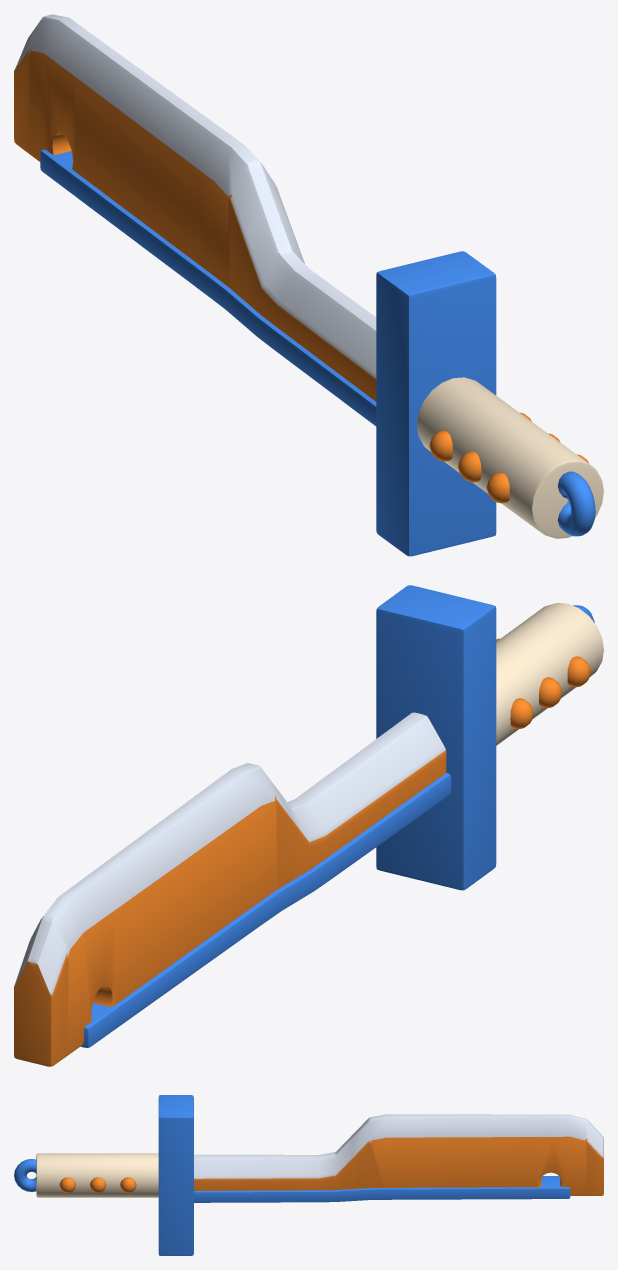
Rendered from Sword_ToolhouseCleaver.glb.
The picture shows the model from 3 angles, top to bottom: view 1: azimuth 30°, elevation 25°; view 2: azimuth 150°, elevation 25°; view 3: azimuth 270°, elevation 25°; orthographic projection. The views are drawn at different scales.
Parts seen in each view (by area): view 1: Sword_ToolhouseCleaver; view 2: Sword_ToolhouseCleaver; view 3: Sword_ToolhouseCleaver.
Part boxes in pixels (left/top/right/bottom): Sword_ToolhouseCleaver: left=14, top=14, right=603, bottom=556; Sword_ToolhouseCleaver: left=14, top=585, right=603, bottom=1066; Sword_ToolhouseCleaver: left=14, top=1095, right=603, bottom=1255.
Size of the model in its own units: 0.104 by 0.26 by 1.
Materials: 1 (1 with a texture image).
